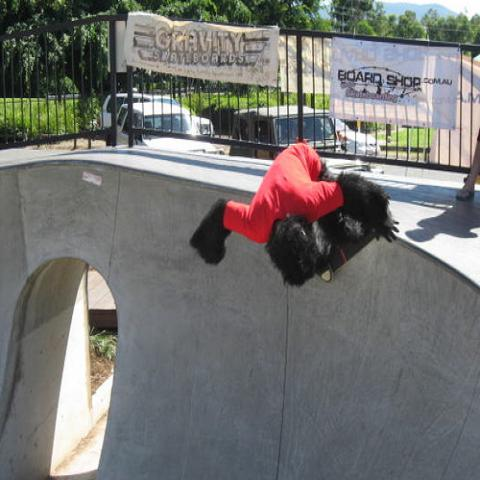car: (238, 100, 368, 157), (102, 94, 213, 138), (114, 102, 203, 145), (337, 118, 383, 156)
